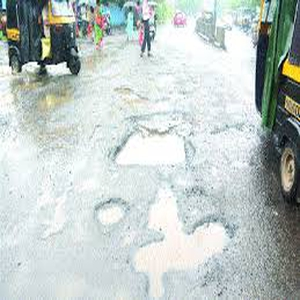pothole: (137, 184, 235, 296), (110, 125, 190, 166), (94, 197, 131, 226)
